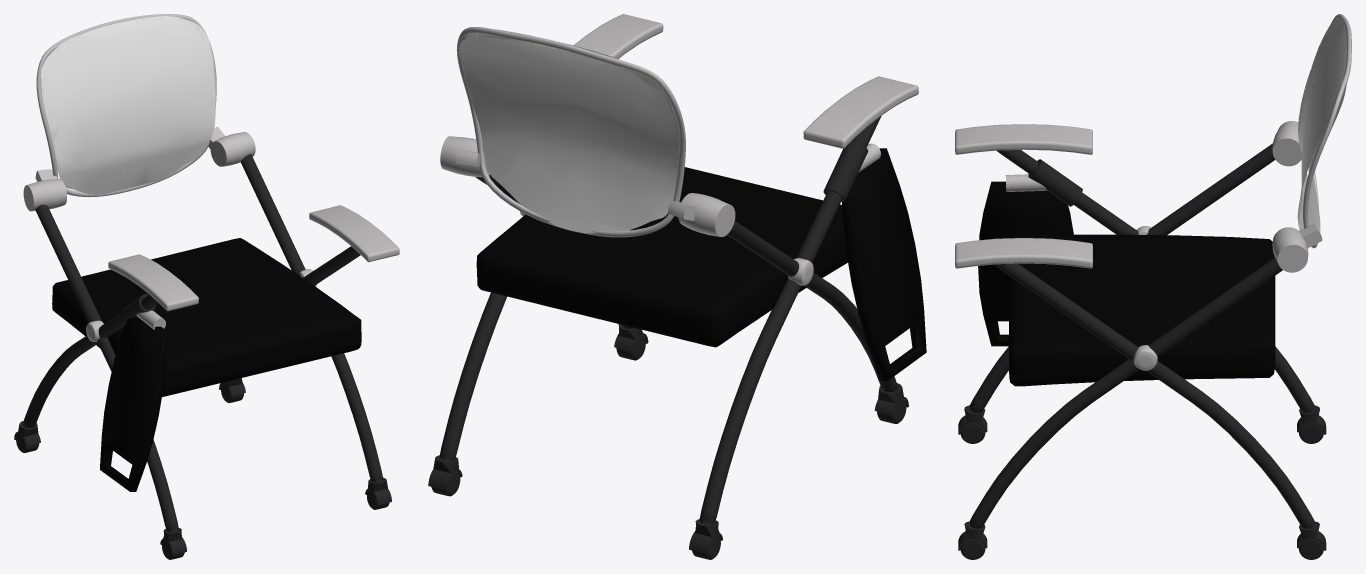
Rendered from ChairWithLegs.fbx.
3 renders of one model, left to right at view 1: azimuth 30°, elevation 25°; view 2: azimuth 150°, elevation 25°; view 3: azimuth 270°, elevation 25°, orthographic. The views are drawn at different scales.
Visible parts, largest first — view 1: Cube; view 2: Cube; view 3: Cube.
Boxes of the visible parts, x1,y1,x2,y2 form: Cube: (14, 14, 399, 559); Cube: (428, 14, 926, 559); Cube: (955, 14, 1351, 559).
Size of the model in its own units: 190 by 279 by 220.
